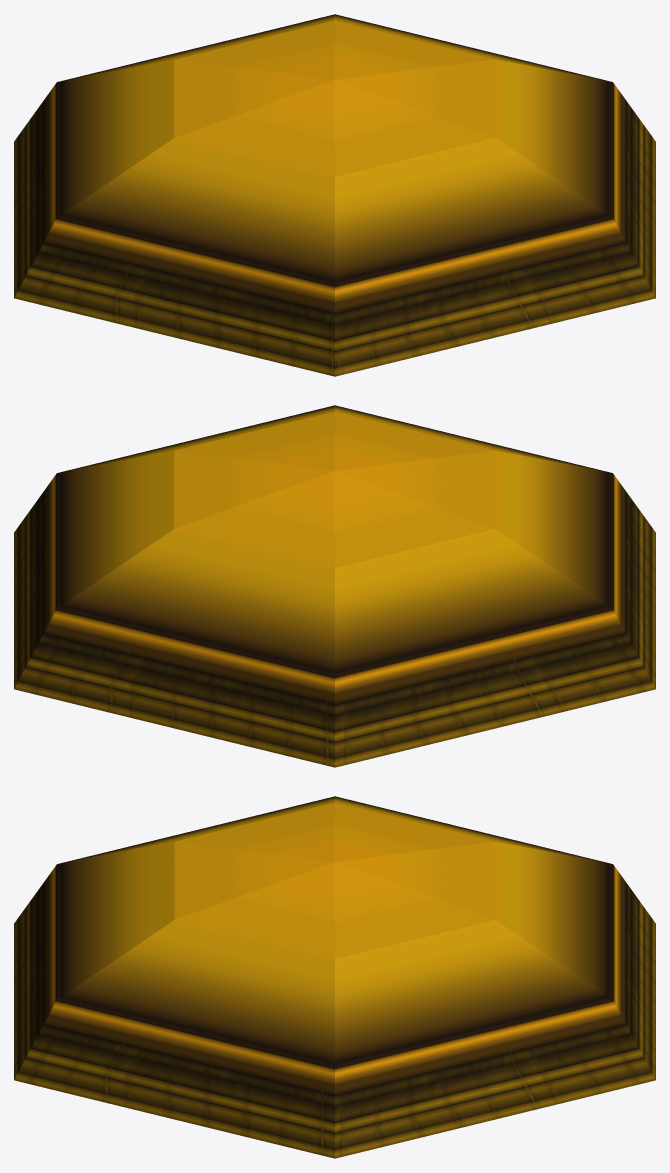
Rendered from Polizei_Dach_2587.glb.
3 renders of one model, top to bottom at view 1: azimuth 30°, elevation 25°; view 2: azimuth 150°, elevation 25°; view 3: azimuth 270°, elevation 25°, orthographic.
Visible parts, largest first — view 1: pSphereShape77; view 2: pSphereShape77; view 3: pSphereShape77.
Boxes of the visible parts, x1,y1,x2,y2 form: pSphereShape77: (14, 14, 655, 376); pSphereShape77: (14, 405, 655, 767); pSphereShape77: (14, 796, 655, 1158).
Bounding box in the file's own units: 1.84 × 0.3835 × 1.59.
Materials: 1 (1 with a texture image).
